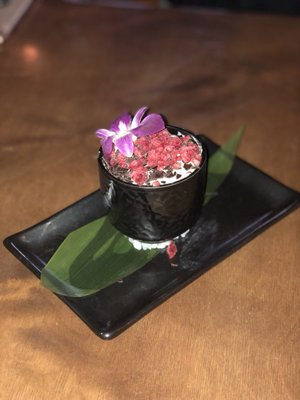pizza: (95, 109, 211, 243)
